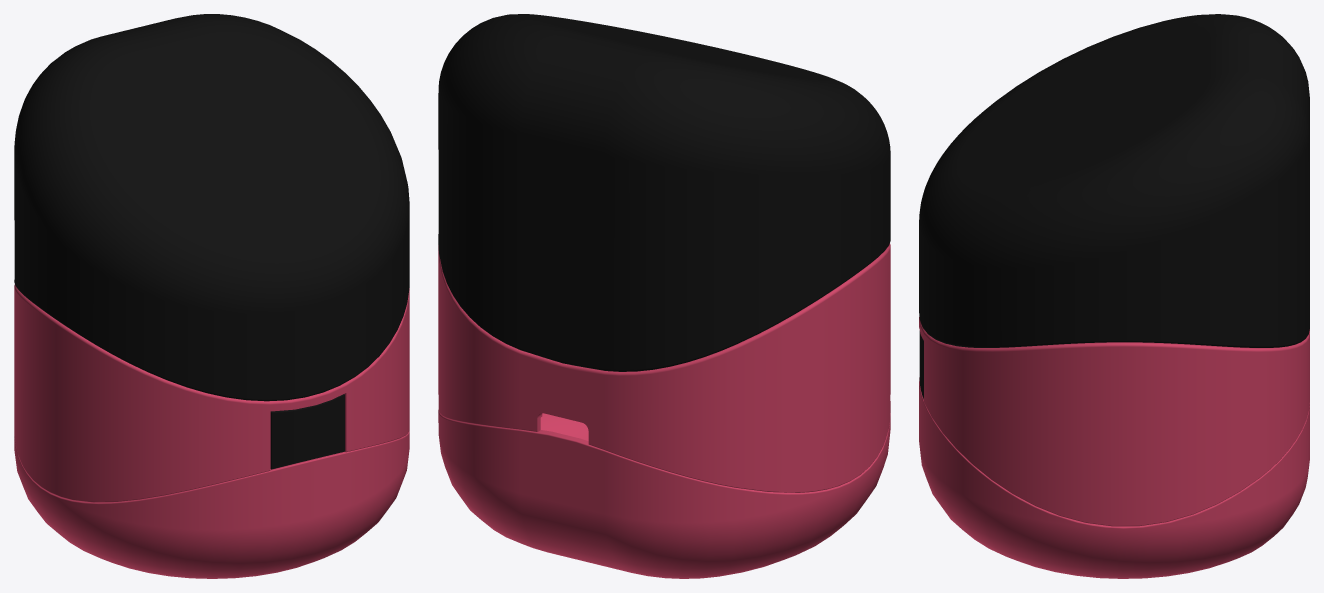
Rendered from device.glb.
3 renders of one model, left to right at view 1: azimuth 30°, elevation 25°; view 2: azimuth 150°, elevation 25°; view 3: azimuth 270°, elevation 25°, orthographic. The views are drawn at different scales.
Visible parts, largest first — view 1: Cap.021, Middle Cover.020, Lower Case.019, Switch.020; view 2: Cap.021, Middle Cover.020, Lower Case.019; view 3: Cap.021, Middle Cover.020, Lower Case.019.
Part boxes in pixels (bbox=[...]): Cap.021: bbox=[14, 14, 409, 401]; Middle Cover.020: bbox=[14, 284, 409, 502]; Lower Case.019: bbox=[14, 431, 409, 578]; Switch.020: bbox=[270, 394, 344, 469]; Cap.021: bbox=[438, 14, 890, 371]; Middle Cover.020: bbox=[438, 243, 890, 492]; Lower Case.019: bbox=[438, 410, 890, 578]; Cap.021: bbox=[919, 14, 1309, 347]; Middle Cover.020: bbox=[919, 317, 1309, 526]; Lower Case.019: bbox=[919, 377, 1309, 578].
Bounding box in the file's own units: 1.97 × 2.48 × 1.87.
